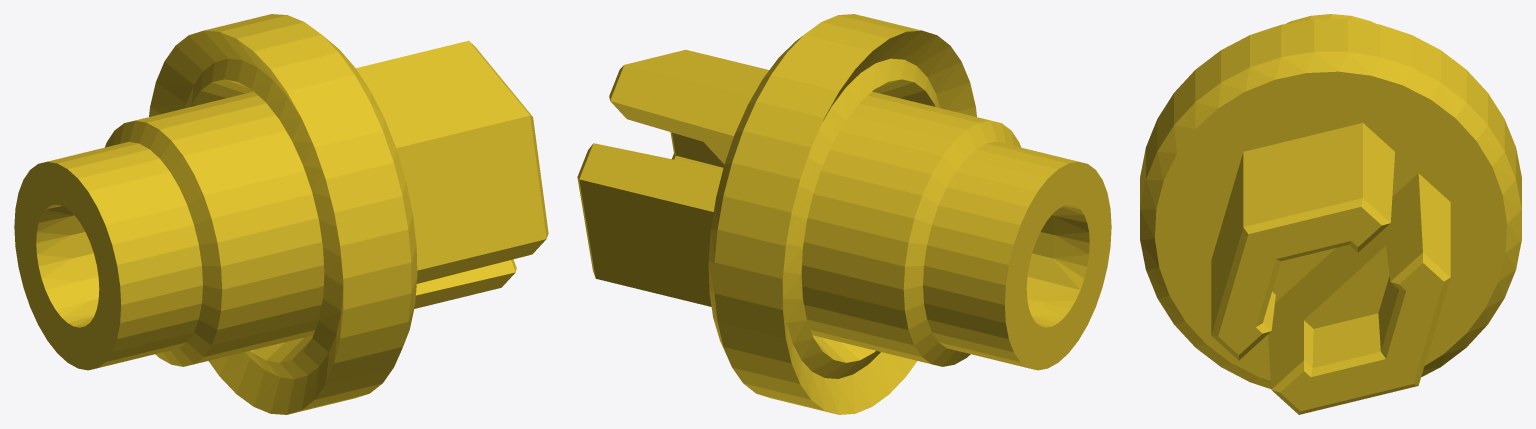
3 views of the same model, side by side, from view 1: azimuth 30°, elevation 25°; view 2: azimuth 150°, elevation 25°; view 3: azimuth 270°, elevation 25° (orthographic). The views are drawn at different scales.
Parts seen in each view (by area): view 1: 10253809; view 2: 10253809; view 3: 10253809.
Part boxes in pixels (box(x1,y1,x2,y2)): 10253809: box(14, 14, 548, 414); 10253809: box(577, 14, 1111, 414); 10253809: box(1140, 14, 1521, 414).
Bounding box in the file's own units: 1 × 0.8034 × 0.8034.
